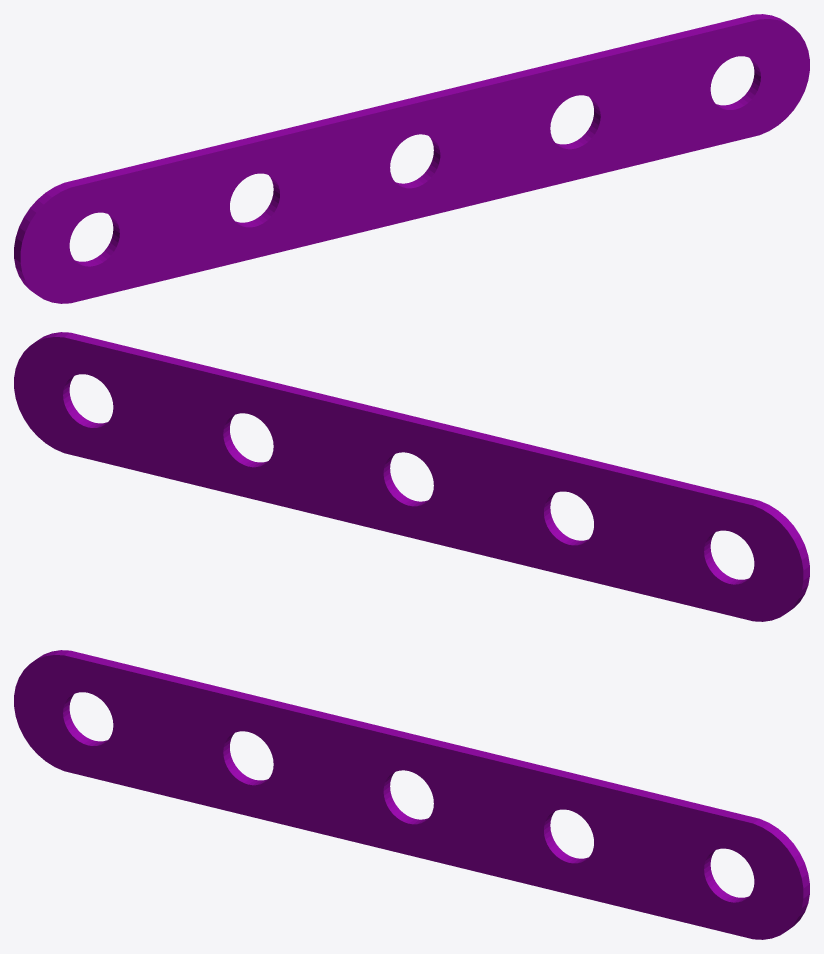
Rendered from ThanhThang_5_KimLoai_Tim.glb.
3 views of the same model, one above another, from view 1: azimuth 30°, elevation 25°; view 2: azimuth 150°, elevation 25°; view 3: azimuth 330°, elevation 25° (orthographic).
Visible parts, largest first — view 1: defaultobject; view 2: defaultobject; view 3: defaultobject.
Boxes of the visible parts, left/top/right/bottom form: defaultobject: left=14, top=14, right=809, bottom=303; defaultobject: left=14, top=332, right=809, bottom=621; defaultobject: left=14, top=650, right=809, bottom=939.
Size of the model in its own units: 156 by 21.91 by 2.24.
